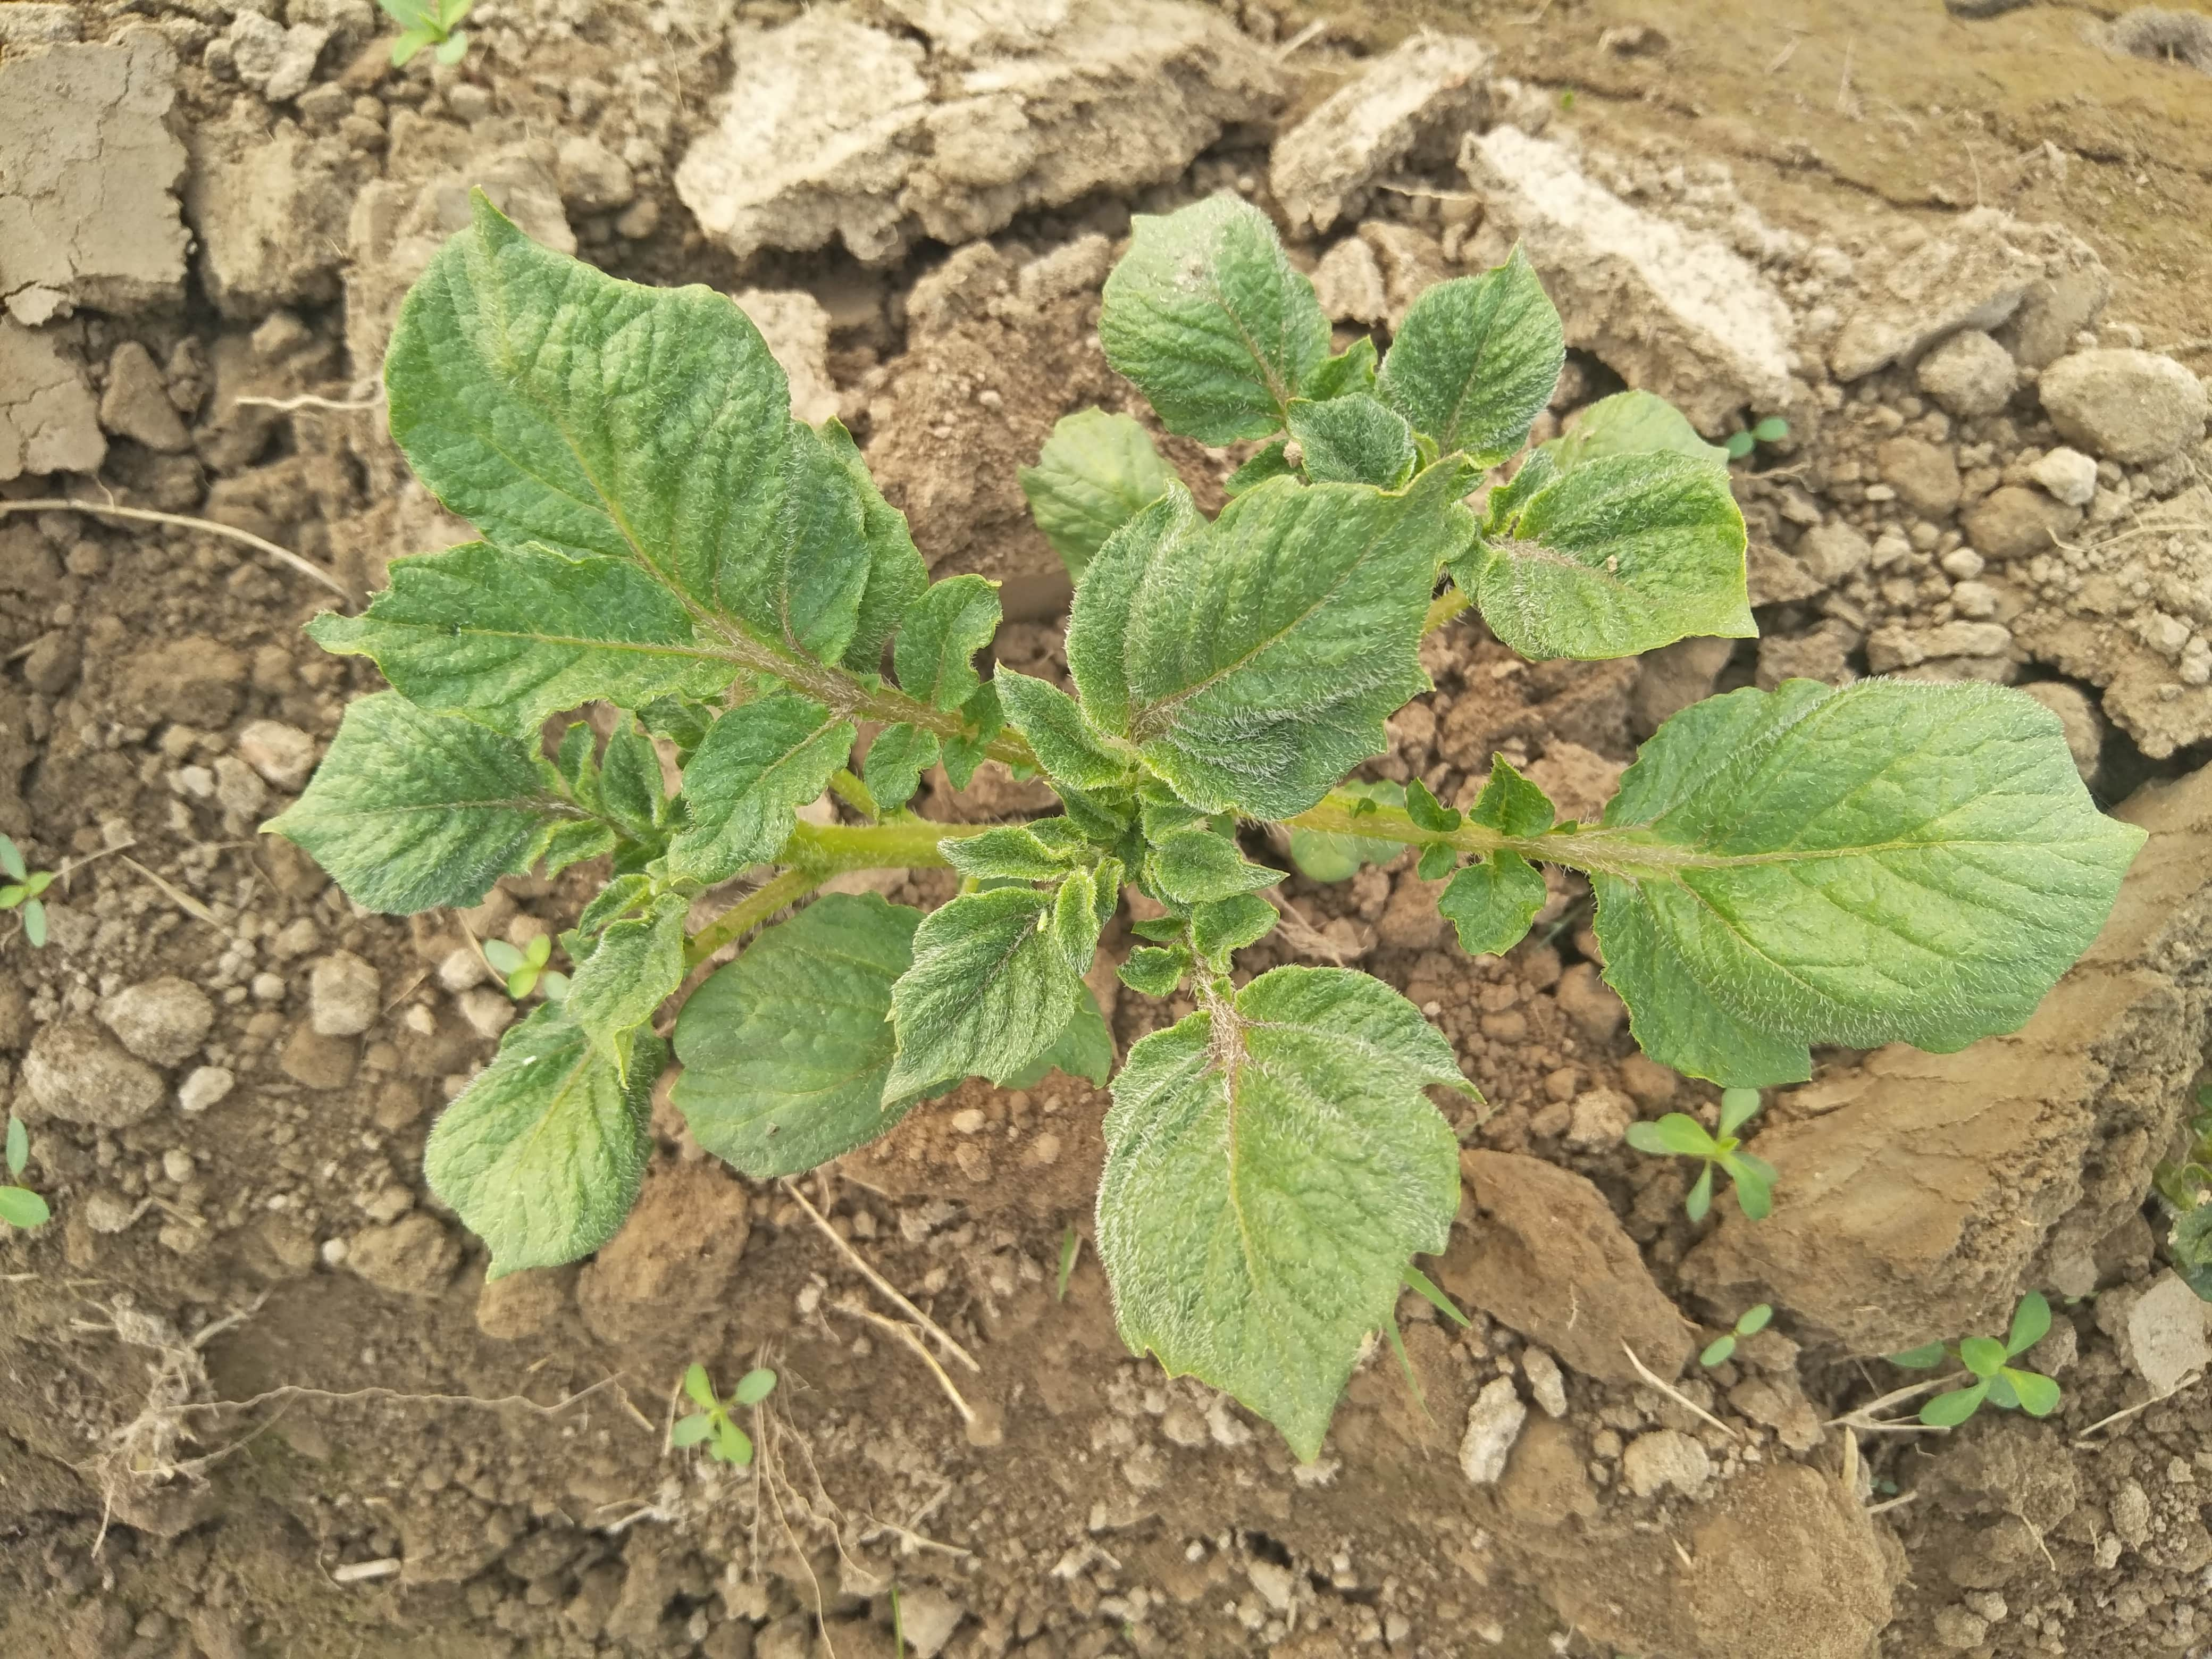daun: (314, 202, 869, 701), (1608, 701, 2123, 1065), (1113, 978, 1449, 1441), (1069, 479, 1453, 800), (260, 688, 554, 903), (1087, 204, 1320, 457), (1493, 446, 1764, 657), (690, 899, 897, 1161), (442, 999, 631, 1253), (1374, 247, 1562, 457), (914, 882, 1080, 1080), (671, 697, 838, 856), (1021, 420, 1191, 552), (568, 903, 676, 1072), (988, 671, 1139, 789), (1294, 403, 1430, 498), (932, 829, 1103, 903), (897, 579, 989, 713), (601, 713, 679, 863), (1188, 885, 1280, 999), (1453, 845, 1540, 948), (1146, 833, 1280, 896), (1479, 748, 1566, 836), (874, 708, 934, 823)
